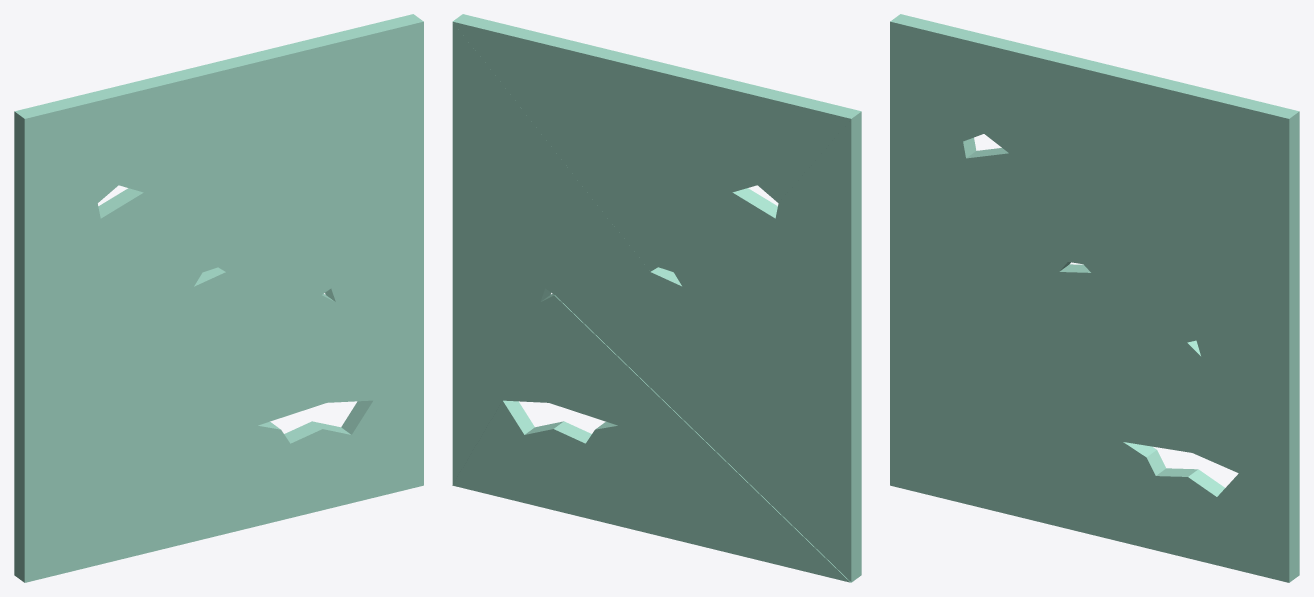
File: destructable_wall.glb
3 views of the same model, side by side, from view 1: azimuth 30°, elevation 25°; view 2: azimuth 150°, elevation 25°; view 3: azimuth 330°, elevation 25° (orthographic).
Parts seen in each view (by area): view 1: Cube.001; view 2: Cube.001; view 3: Cube.001.
Boxes of the visible parts, box(x1,y1,x2,y2) form: Cube.001: box(14, 14, 423, 582); Cube.001: box(452, 14, 861, 582); Cube.001: box(890, 14, 1299, 582).
Bounding box in the file's own units: 4.5 × 5 × 0.2086.
